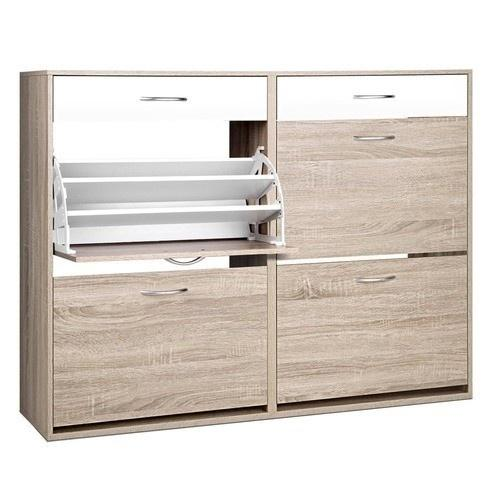cabinet_door: (55, 270, 270, 415), (275, 261, 466, 402), (281, 123, 465, 260), (55, 75, 270, 122), (276, 79, 463, 123)
handle: (140, 284, 189, 303), (353, 86, 397, 106), (356, 269, 398, 289), (352, 129, 398, 147), (138, 92, 190, 106), (166, 253, 203, 267)
